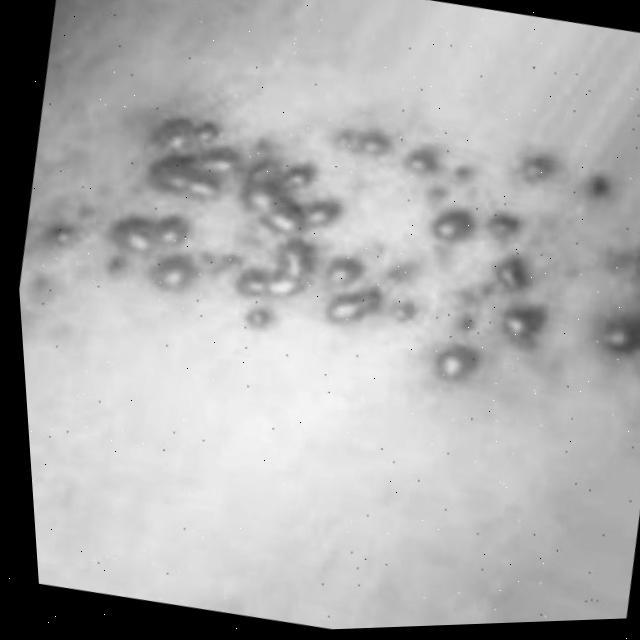Shingles: (70, 68, 640, 431)
